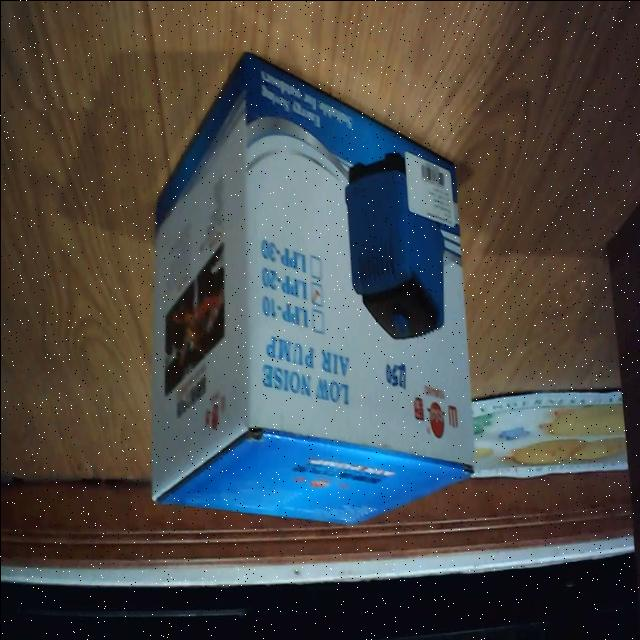YAMANO_LPP_20: (134, 42, 482, 537)
